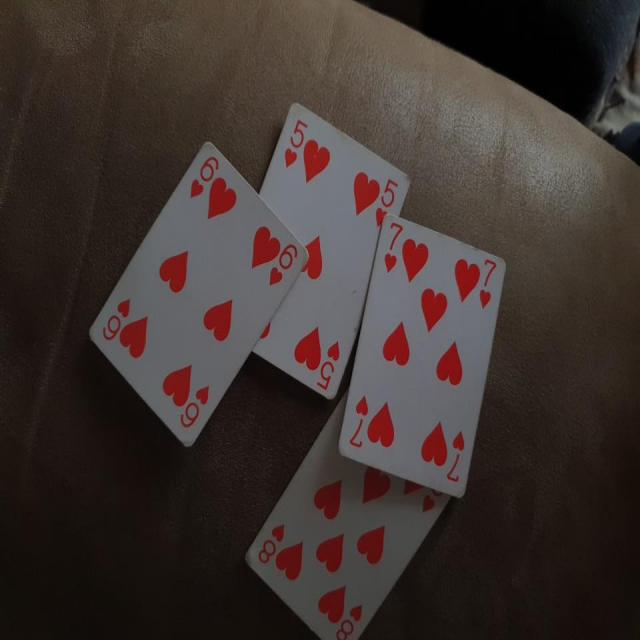5 Hearts: (247, 89, 410, 400)
6 Hearts: (92, 138, 306, 458)
7 Hearts: (334, 208, 509, 501)
8 Hearts: (234, 392, 462, 640)
